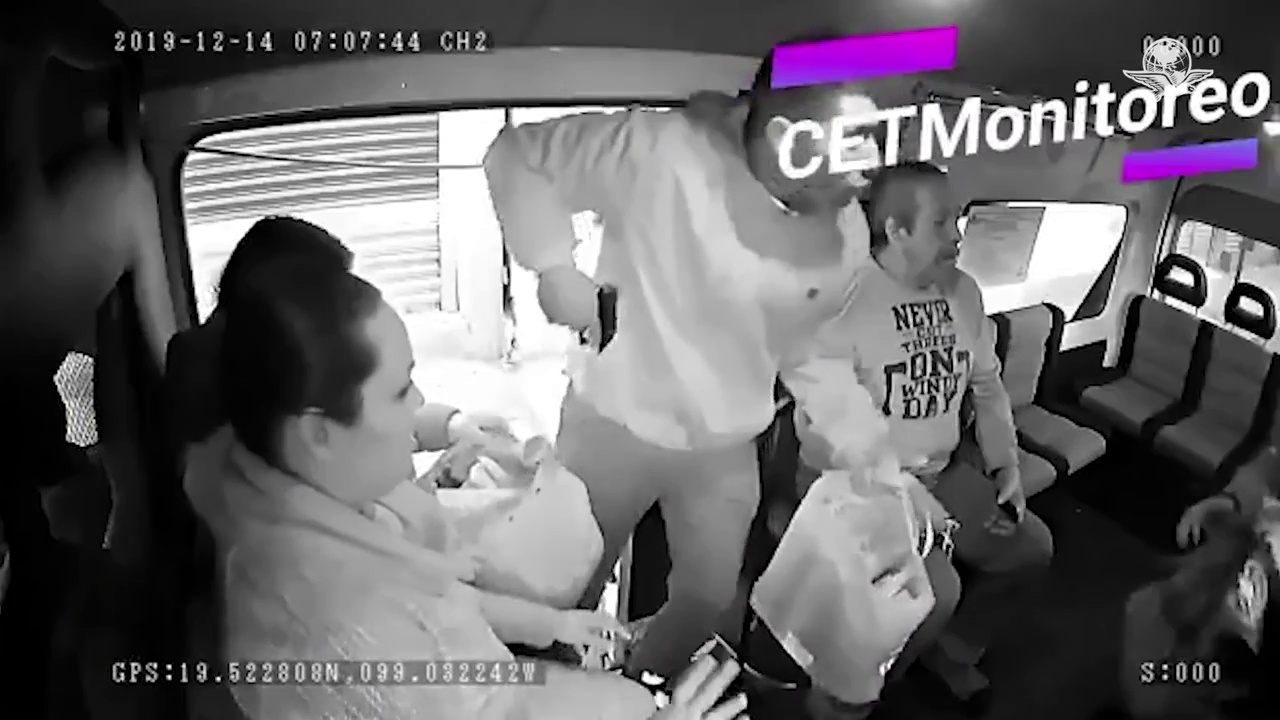pistol: (577, 281, 621, 366)
